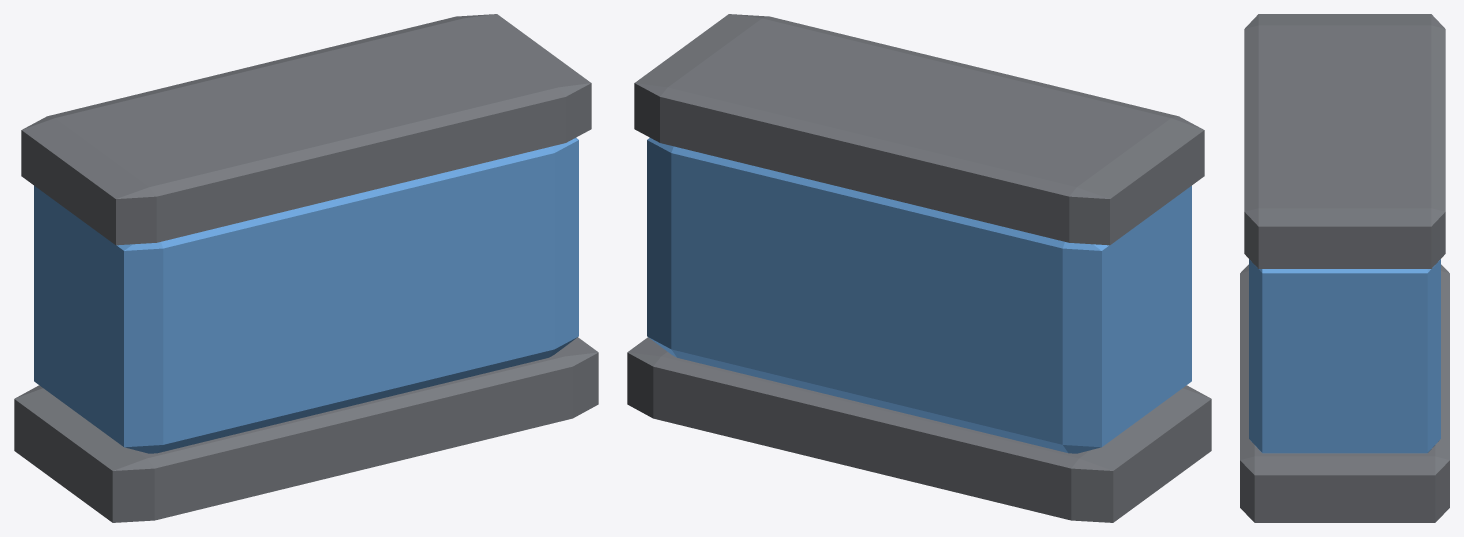
Rendered from b04_three_hole_public_recycling_sorter.glb.
3 renders of one model, left to right at view 1: azimuth 30°, elevation 25°; view 2: azimuth 150°, elevation 25°; view 3: azimuth 270°, elevation 25°, orthographic. The views are drawn at different scales.
Parts seen in each view (by area): view 1: b04_three_hole_public_recycling_sorter; view 2: b04_three_hole_public_recycling_sorter; view 3: b04_three_hole_public_recycling_sorter.
Part boxes in pixels (<box>): b04_three_hole_public_recycling_sorter: <box>14,14,598,522</box>; b04_three_hole_public_recycling_sorter: <box>627,14,1211,522</box>; b04_three_hole_public_recycling_sorter: <box>1240,14,1449,522</box>.
Bounding box in the file's own units: 1.77 × 1.14 × 0.723.
